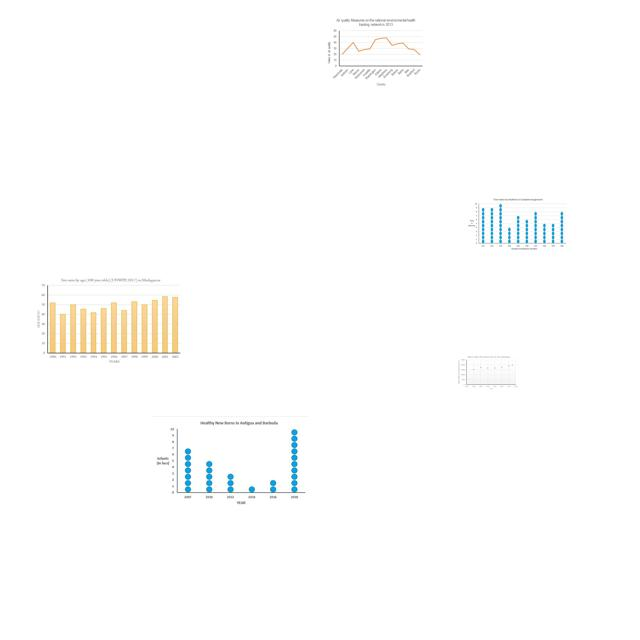Graph: (151, 416, 309, 509), (35, 276, 182, 364), (327, 18, 425, 87), (467, 197, 567, 252), (457, 355, 519, 391)
